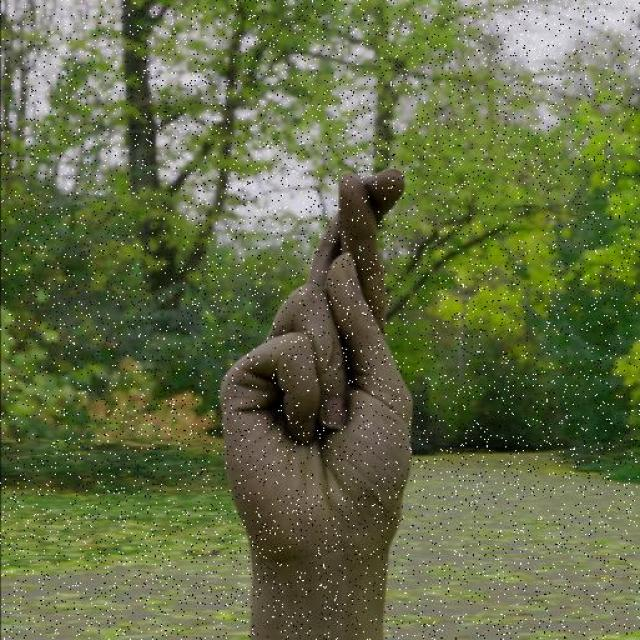R: (218, 163, 418, 562)
